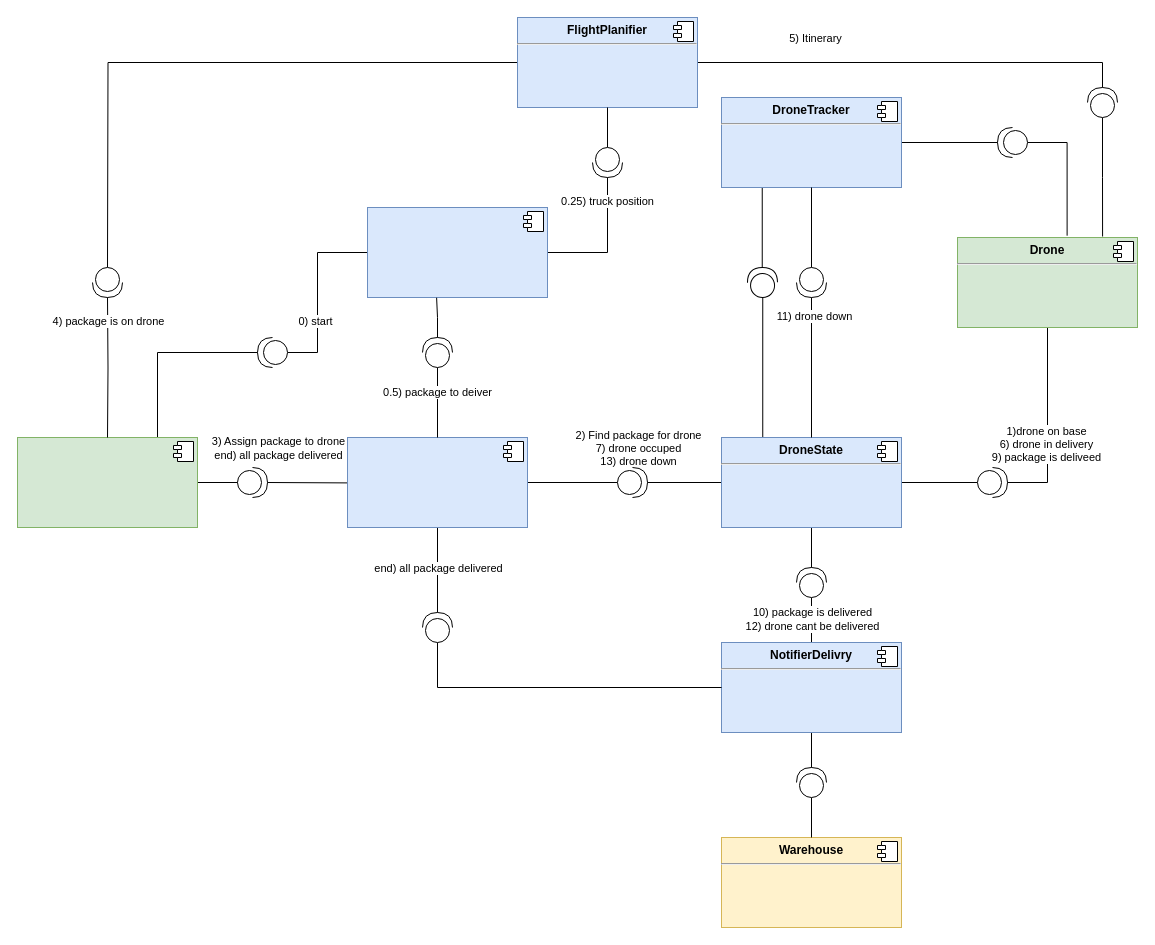
Image size: 1155x945. Some labels were removed from this diagram. Each missing label, with the centre of its shape:
DeliveryTracker: the point at 457,252
Scheduler: the point at 437,482
Tablet: the point at 107,482
